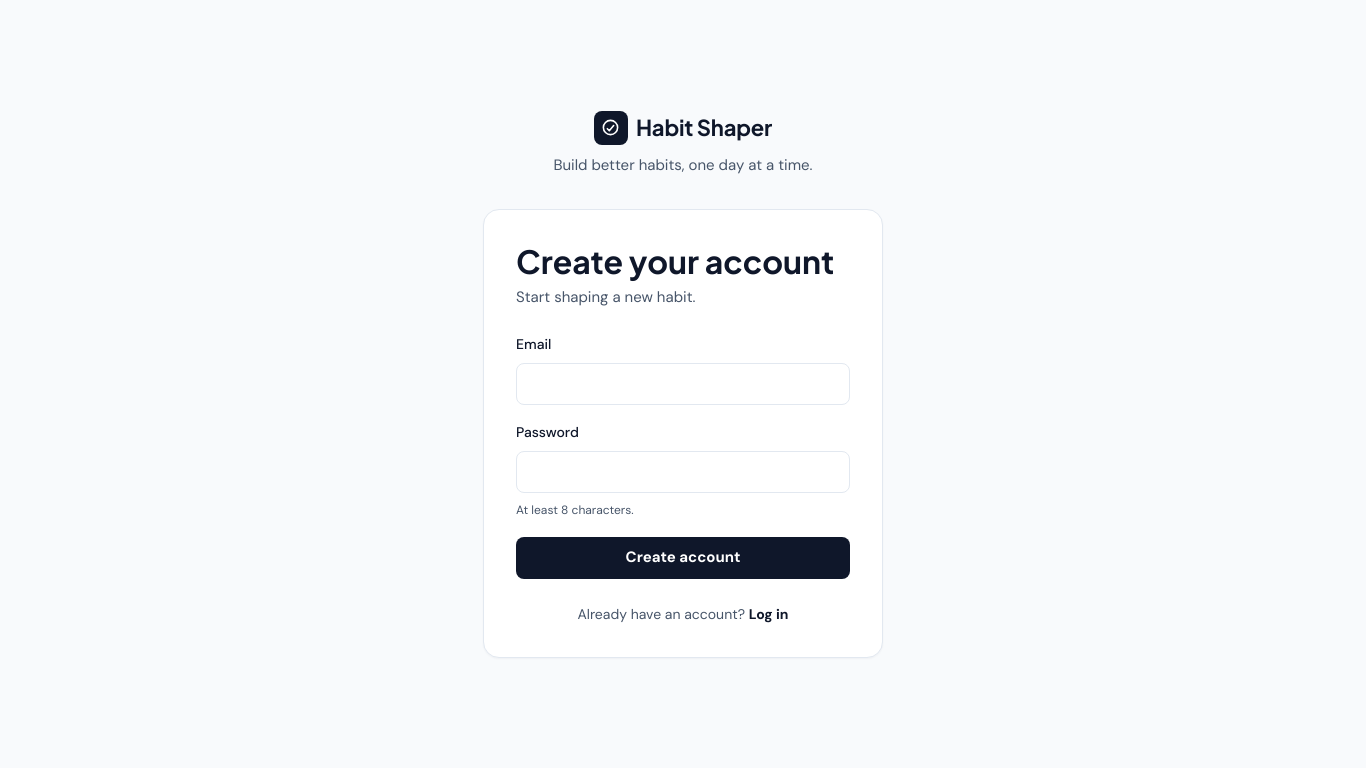
Phase 7 auth flow › 3. valid registration succeeds and reaches the protected shell
Type "dave@example.com" into the field labelled "Email".
click(683, 384); type("dave@example.com")  # box [516, 363, 850, 405]
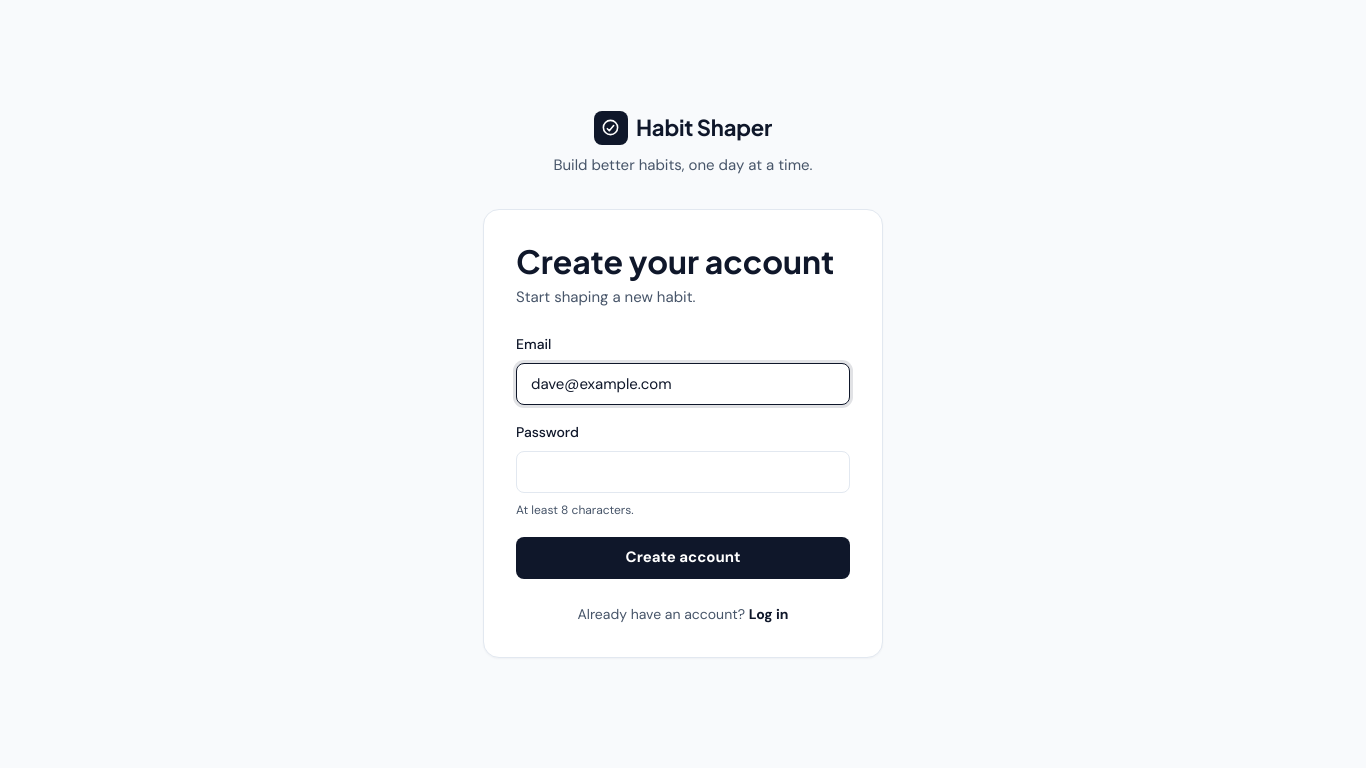
Type "password-123" into the password field labelled "Password".
click(683, 472); type("password-123")  # box [516, 451, 850, 493]
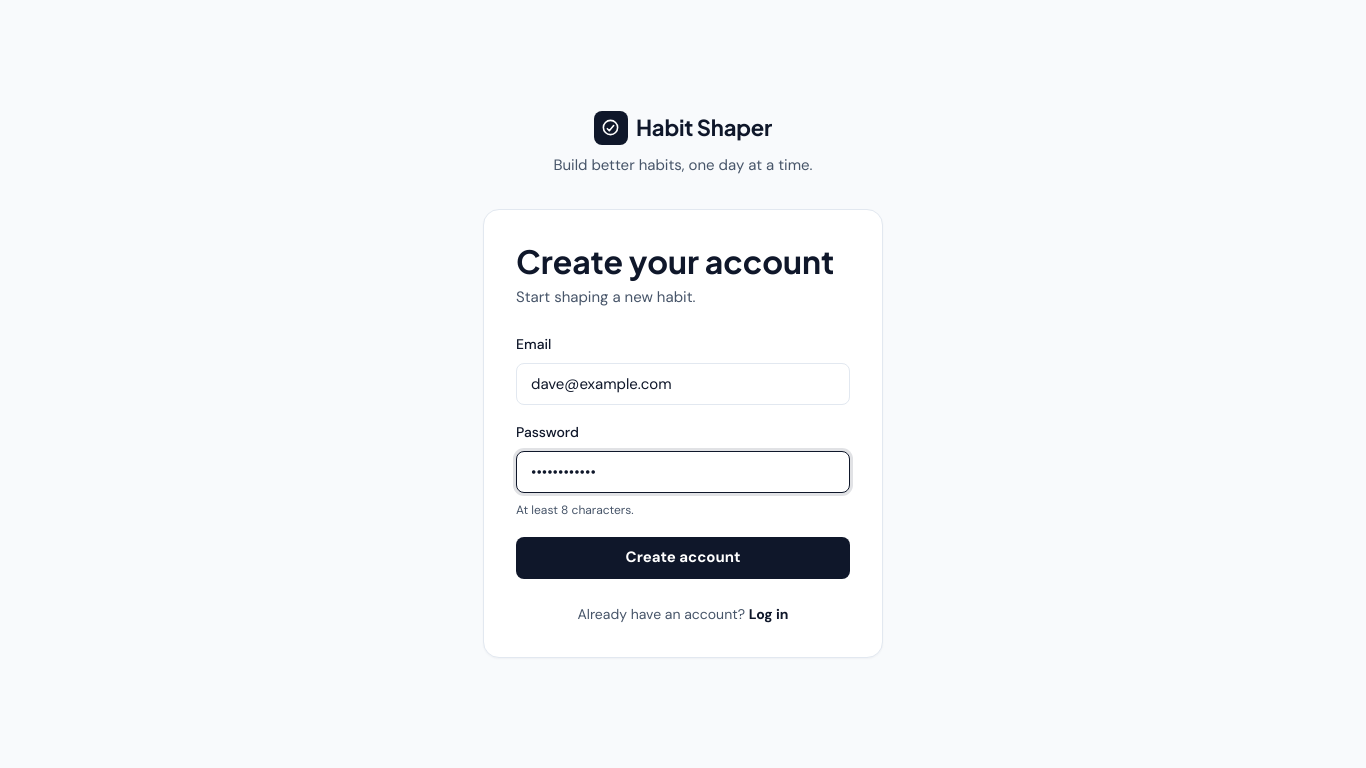
Click the button "Create account".
click(683, 558)  # box [516, 537, 850, 579]
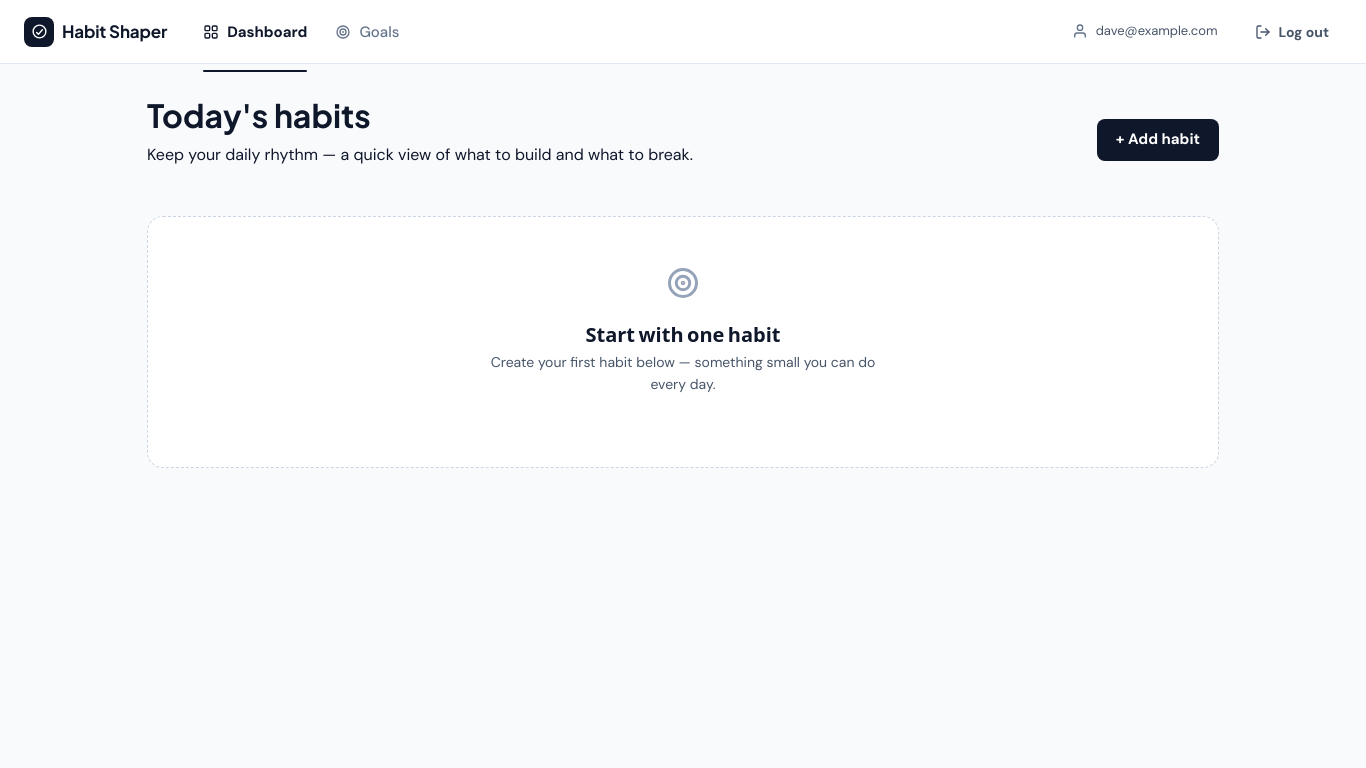
Expected: the heading "Today's habits" is shown, [147, 95, 371, 135]
